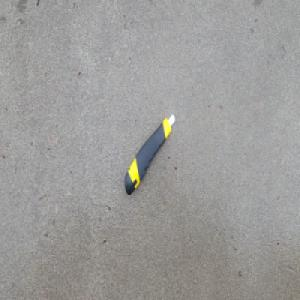Cutter: (124, 112, 176, 197)
